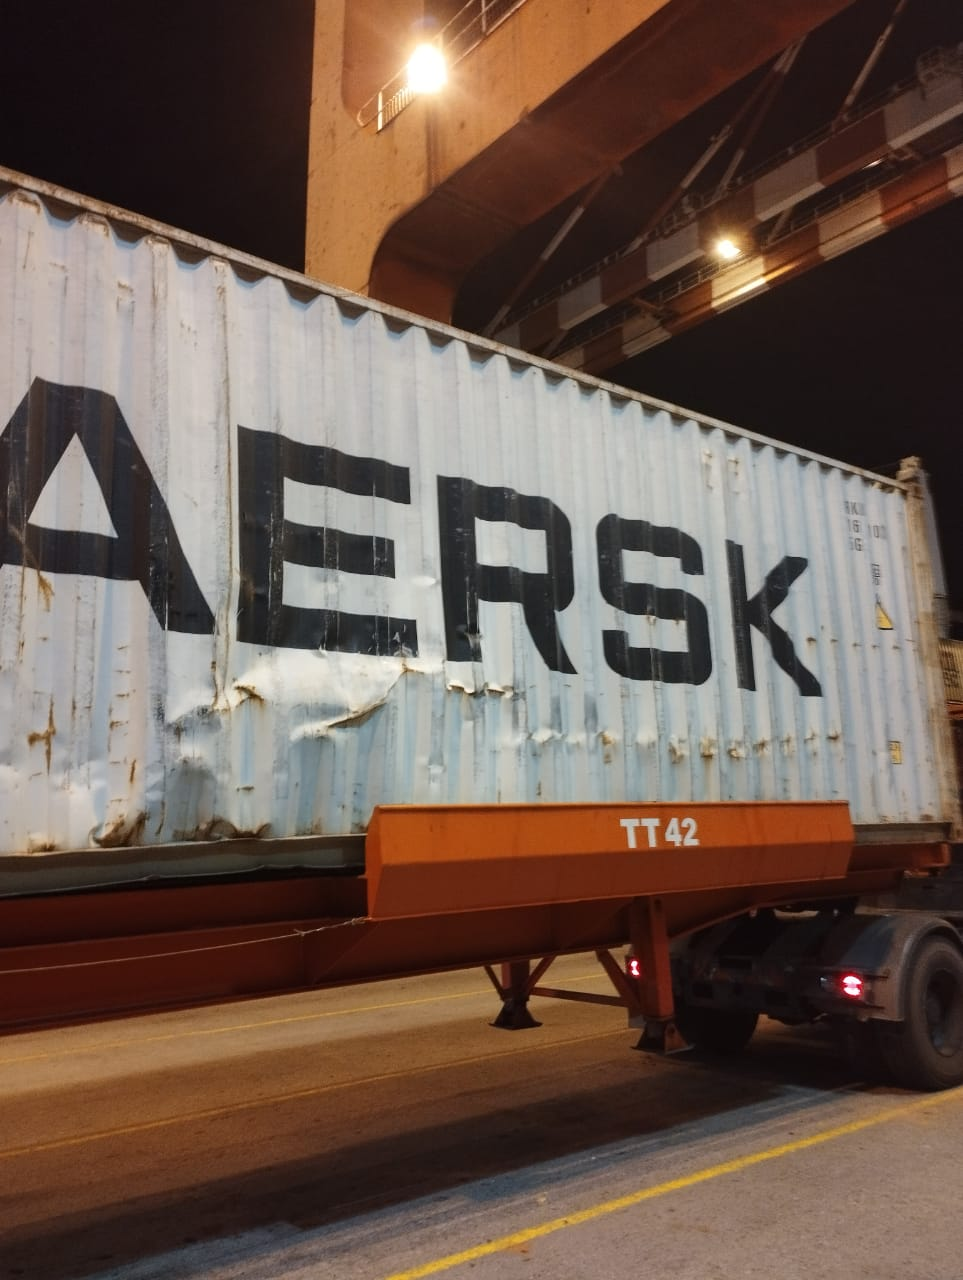bulged: (123, 625, 473, 813)
cut: (435, 668, 549, 710)
dented: (547, 718, 868, 776)
